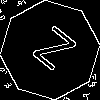Z: (25, 25, 77, 80)
